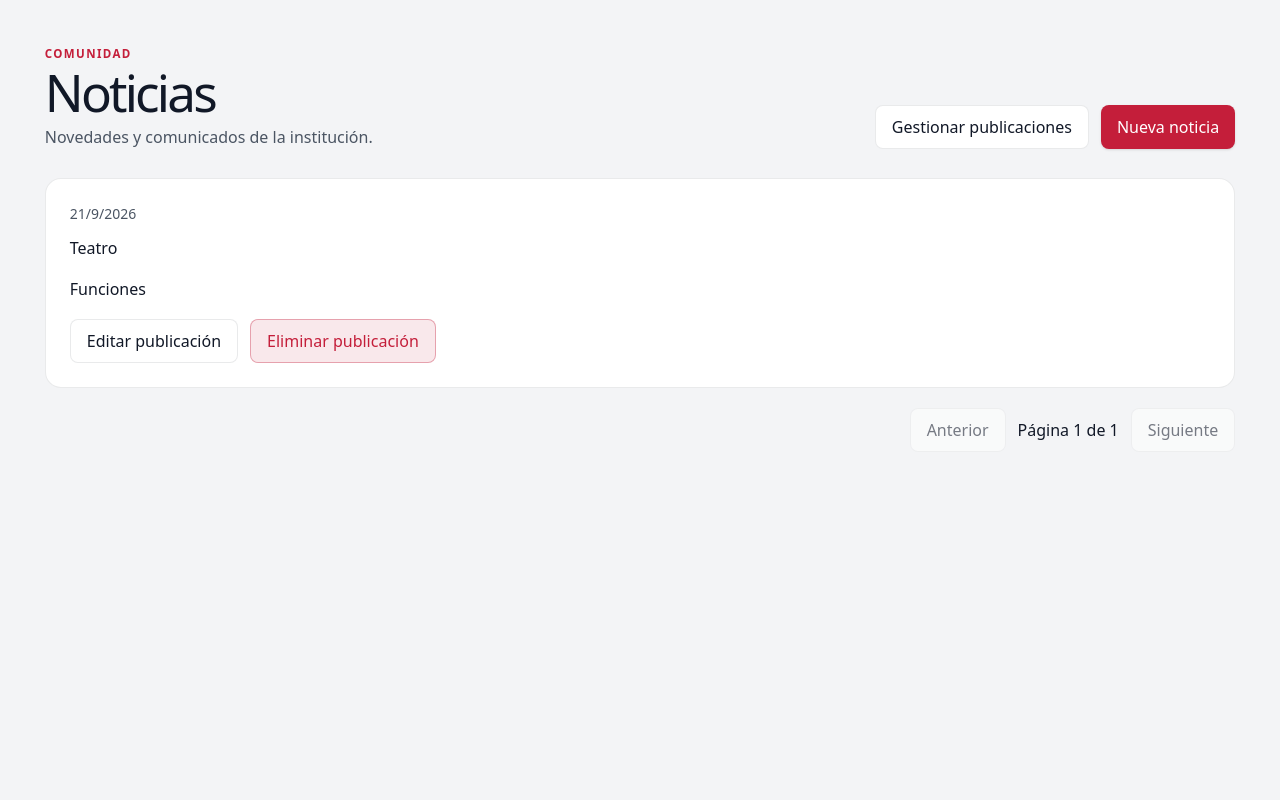
Scenario: privacidad y comunidad › confirma eliminación, permite cancelar y muestra error para reintentar
Click the button "Eliminar publicación" at (343, 341), box [250,319,436,363]
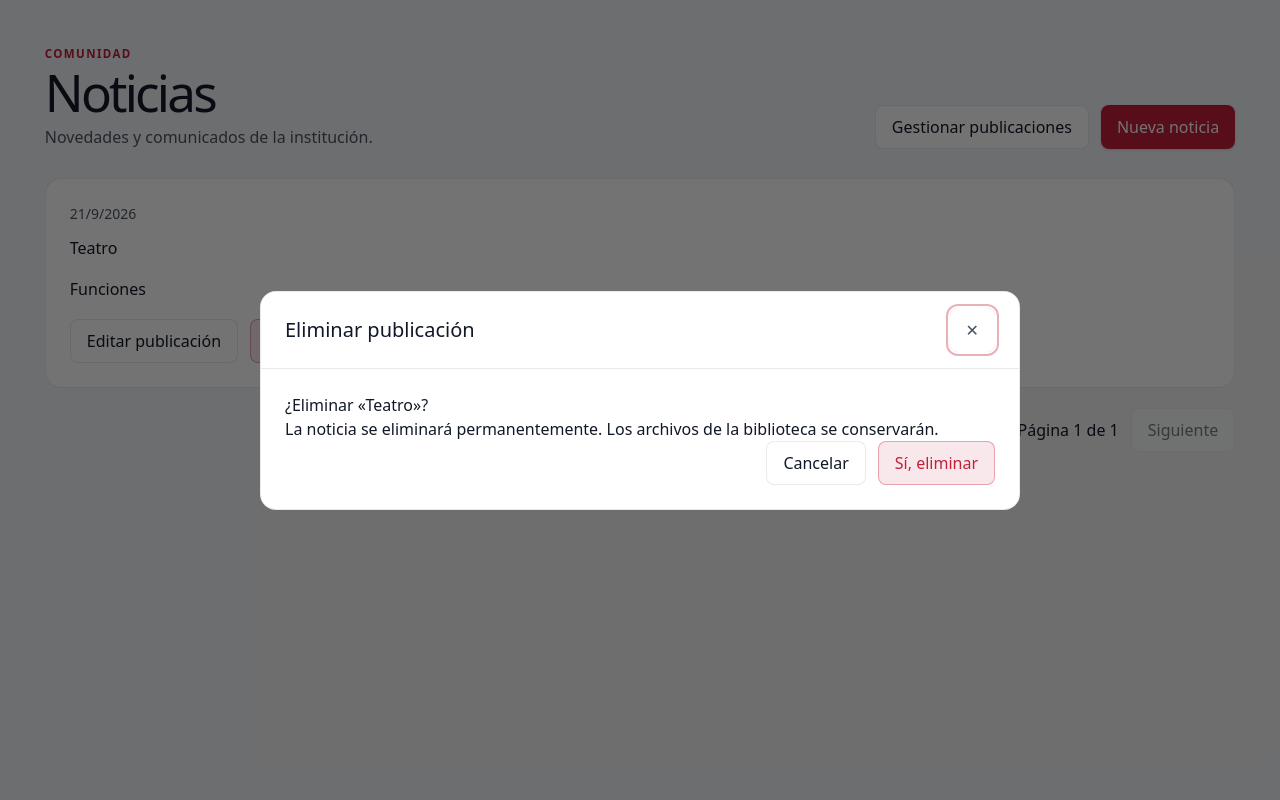
Result: the dialog "Eliminar publicación" shows "Teatro" at [366,394,413,416]
Click the button "Cancelar" at (816, 462), box [766,440,866,484]
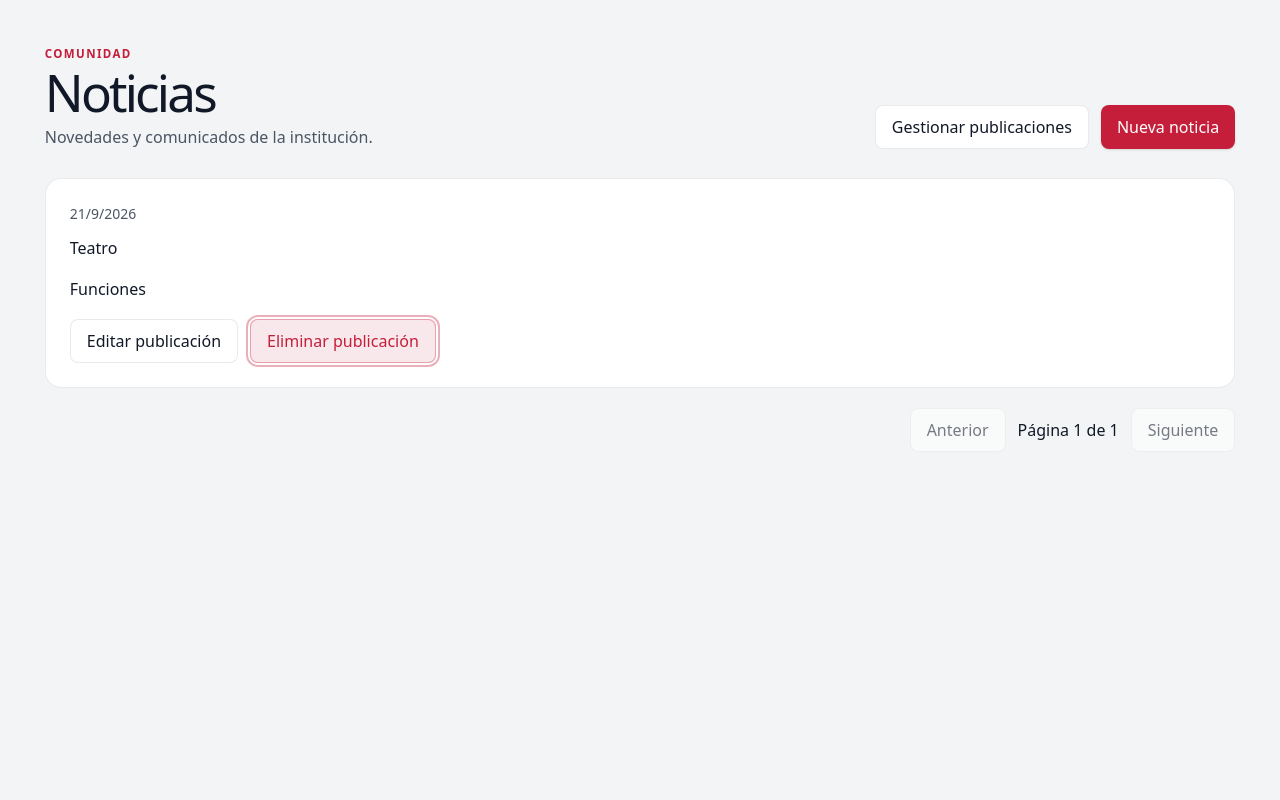
Result: the dialog is gone
Click the button "Eliminar publicación" at (343, 341), box [250,319,436,363]
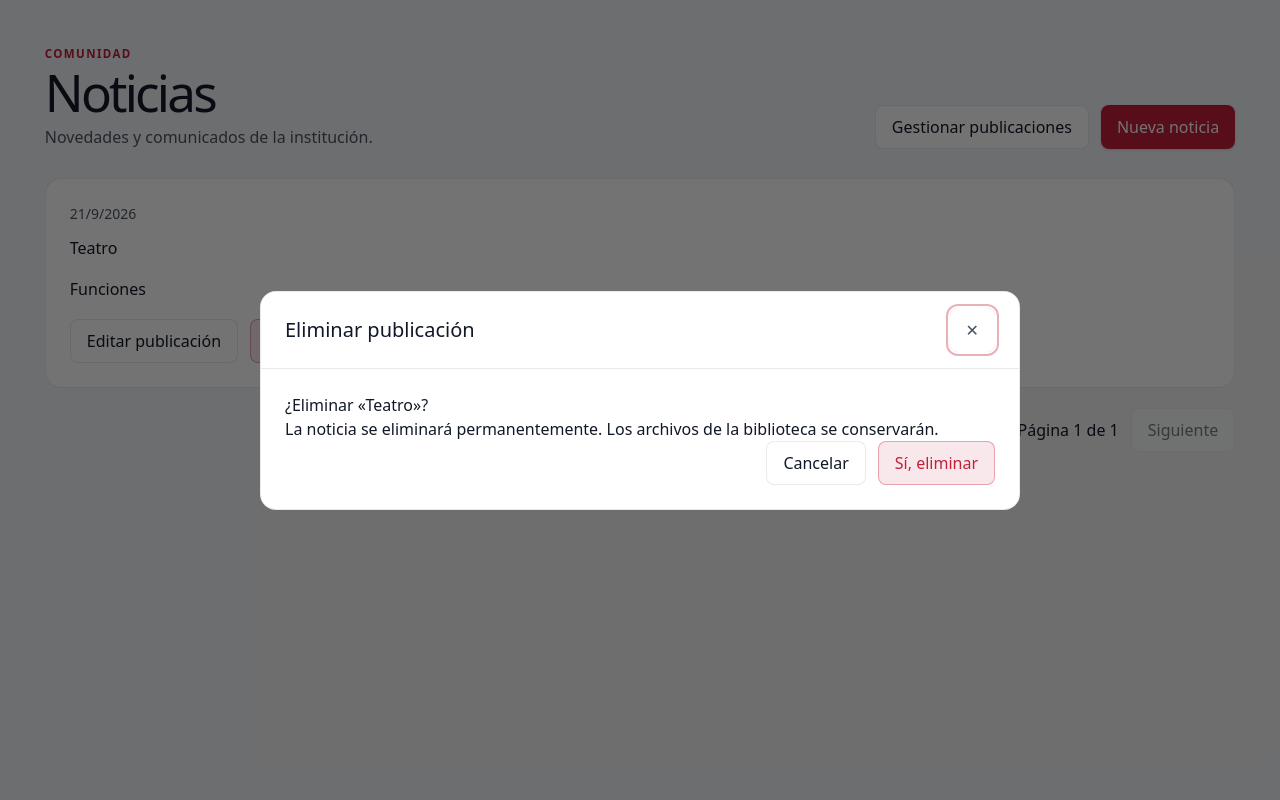
Click the button "Sí, eliminar" at (936, 462), box [878,440,995,484]
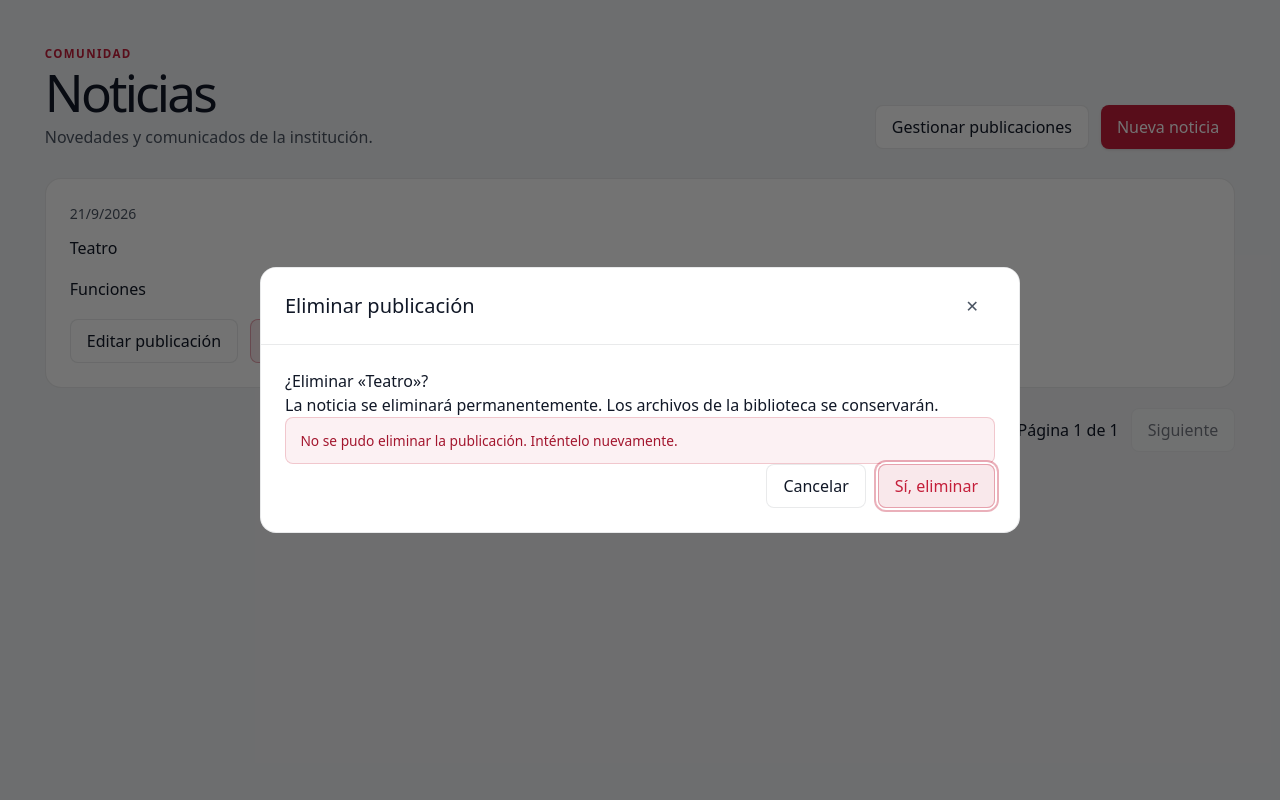
Result: the dialog is shown at [260,267,1020,533]
Result: the message "No se pudo eliminar la publicación. Inténtelo nuevamente." is shown at [285,417,995,464]
Click the button "Sí, eliminar" at (936, 486), box [878,464,995,508]
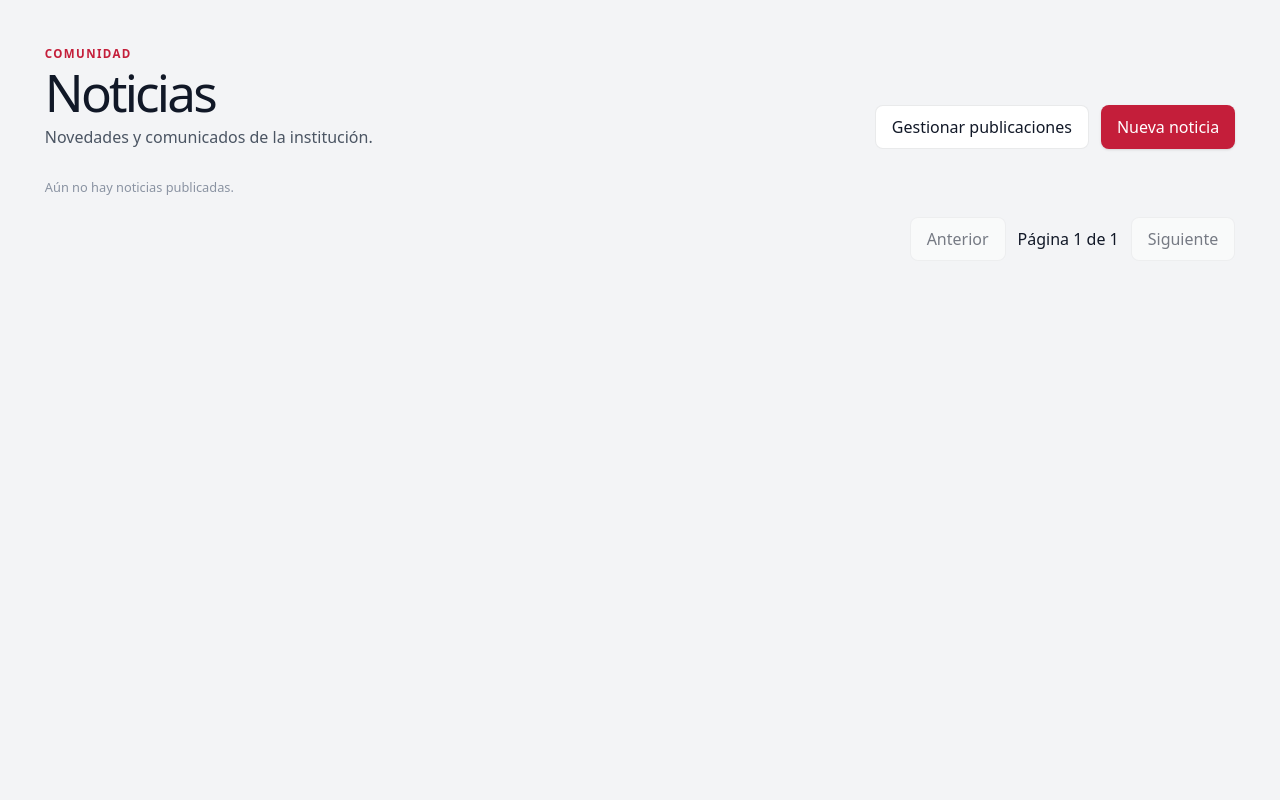
Result: the dialog is gone
Result: the text "Aún no hay noticias publicadas." is shown at [45,178,234,196]
